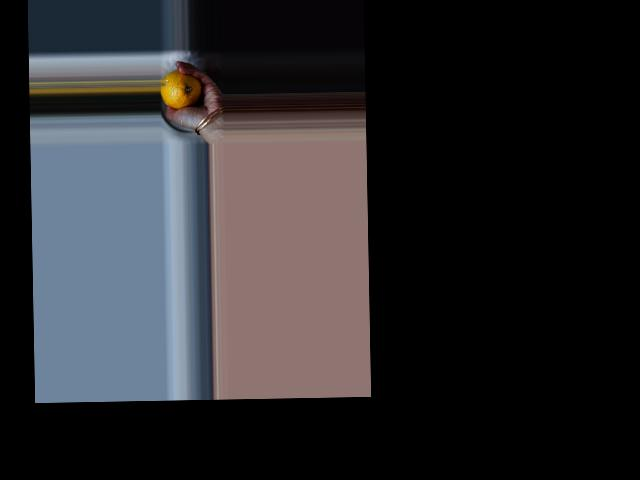lemon: (161, 70, 202, 107)
